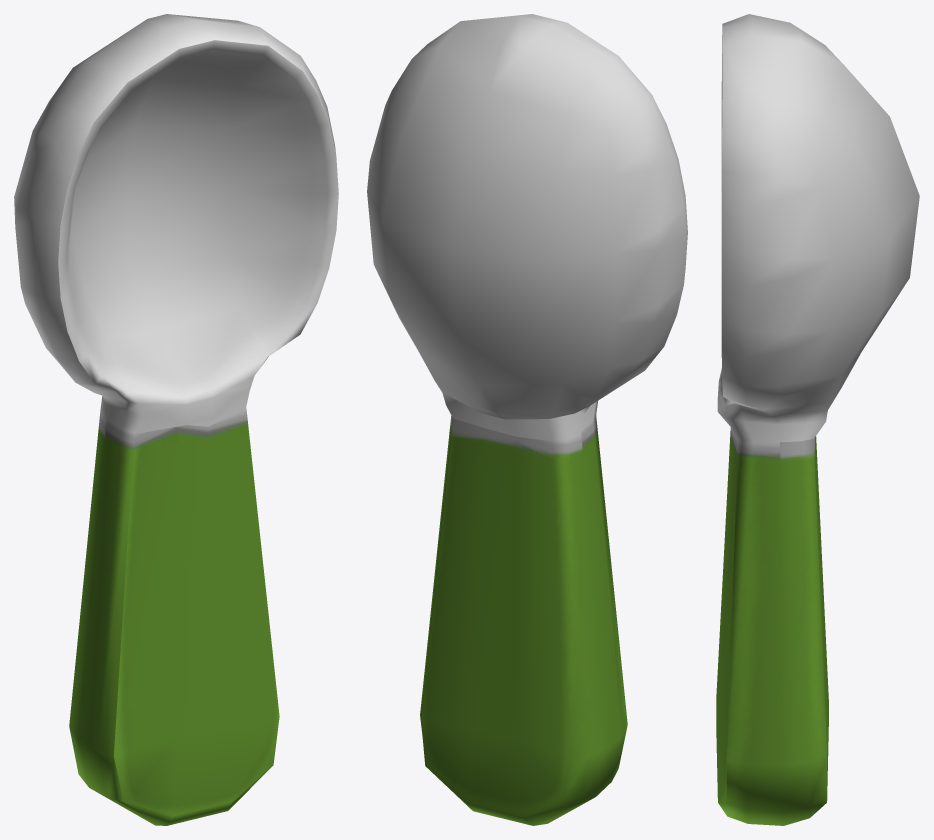
File: spoon.fbx
3 views of the same model, side by side, from view 1: azimuth 30°, elevation 25°; view 2: azimuth 150°, elevation 25°; view 3: azimuth 270°, elevation 25° (orthographic).
Visible parts, largest first — view 1: spoon; view 2: spoon; view 3: spoon.
Boxes of the visible parts, box(x1,y1,x2,y2) form: spoon: box(14, 14, 338, 825); spoon: box(367, 14, 687, 825); spoon: box(716, 14, 919, 825).
Size of the model in its own units: 50.4 by 126 by 29.73.
